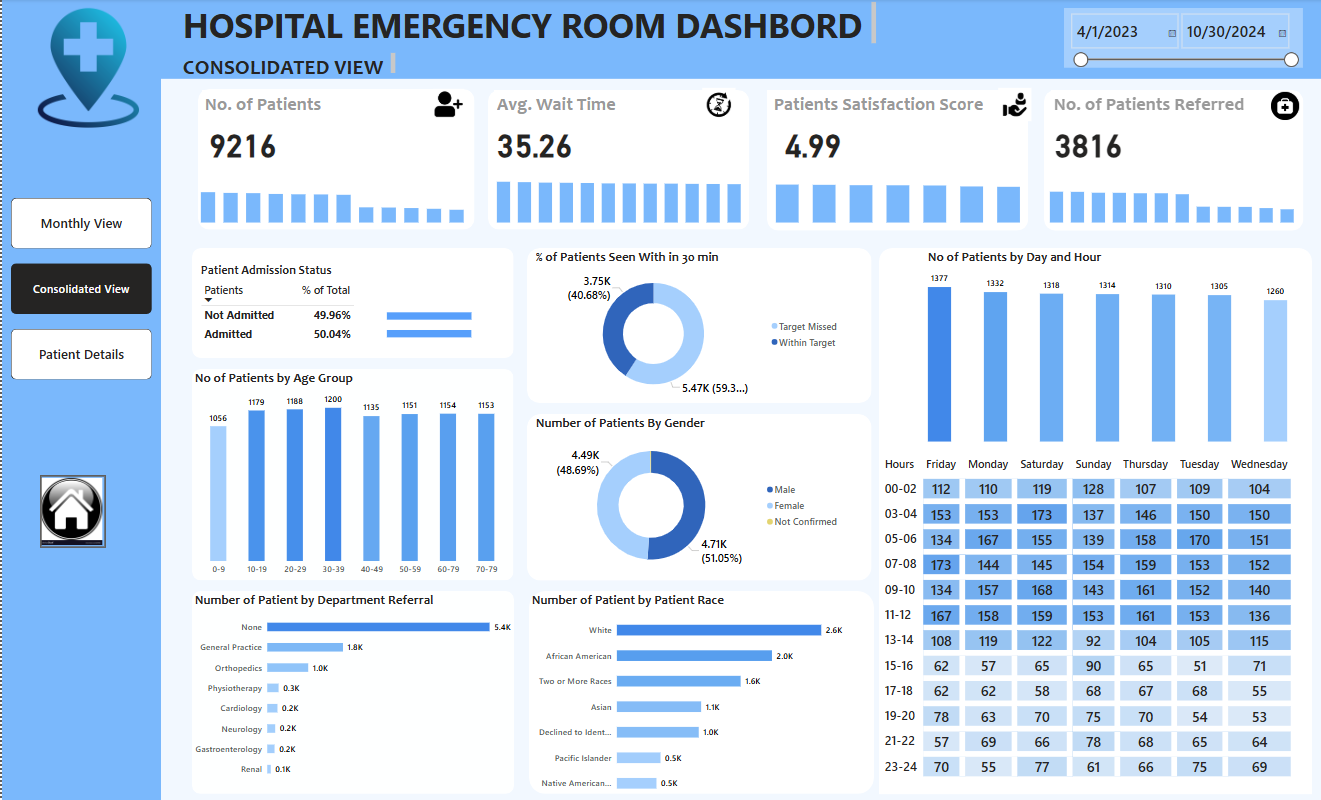

This screenshot's page, from the dashboard's own definition file:
{"tool":"powerbi","page":{"name":"Consolidated View","canvas":[2300,1400],"ordinal":1},"visuals":[{"type":"shape","box":[0,0,276.9,1400],"z":0},{"type":"shape","box":[276.9,0,2023.4,139.3],"z":1000},{"type":"textbox","box":[310,0,1217.2,85.3],"z":2000},{"type":"textbox","box":[310,88.8,379.6,50.5],"z":3000},{"type":"shape","box":[341.7,156.7,481.7,245],"z":4000},{"type":"card","fields":{"Values":["Count(Hospital.Patient Id)"]},"box":[348.3,207.9,141.7,83.3],"z":5000},{"type":"slicer","fields":{"Values":["Hospital.Patient Admission Date"]},"box":[1849.3,15.7,416.2,104.5],"z":6000},{"type":"textbox","box":[348.3,157.7,235,58.3],"z":7000},{"type":"columnChart","fields":{"Category":["Hospital.Month Name"],"Y":["CountNonNull(Hospital.Patient Id)"]},"box":[341.3,297.8,468.4,97.5],"z":8000},{"type":"shape","box":[1815,158.3,451.7,245],"z":9000},{"type":"card","fields":{"Values":["Hospital.Measure"]},"box":[1814.4,207.8,155,83.6],"z":10000},{"type":"textbox","box":[1826.6,158.1,419.7,57.5],"z":11000},{"type":"columnChart","fields":{"Category":["Hospital.Month Name"],"Y":["Hospital.no of patients referred"]},"box":[1819.7,297.8,435.3,97.5],"z":12000},{"type":"shape","box":[846.7,158.3,455,243.3],"z":13000},{"type":"card","fields":{"Values":["Avg(Hospital.Patient Waittime)"]},"box":[856.7,207.8,141,83.6],"z":14000},{"type":"textbox","box":[856.7,158.1,235.1,57.5],"z":15000},{"type":"columnChart","fields":{"Category":["Hospital.Month Name"],"Y":["Avg(Hospital.Patient Waittime)"]},"box":[856.7,297.8,435.3,97.5],"z":16000},{"type":"shape","box":[1331.7,158.3,455,245],"z":17000},{"type":"card","fields":{"Values":["Avg(Hospital.Patient Satisfaction Score)"]},"box":[1342.5,207.8,139.3,83.6],"z":18000},{"type":"textbox","box":[1332.1,158.1,435.3,57.5],"z":19000},{"type":"columnChart","fields":{"Category":["Hospital.Day Name"],"Y":["Avg(Hospital.Patient Satisfaction Score)"]},"box":[1342.5,297.8,437.1,97.5],"z":20000},{"type":"shape","box":[331.7,433.3,560,191.7],"z":21000},{"type":"tableEx","title":"Patient Admission Status","fields":{"Values":["Hospital.Admission Status flag","Hospital.Patient Id"]},"box":[341.7,460,425,151.7],"z":22000},{"type":"barChart","fields":{"Y":["CountNonNull(Hospital.Patient Id)"],"Category":["Hospital.Admission Status flag"]},"box":[665,516.7,201.7,95],"z":23000},{"type":"shape","box":[331.7,645,560,368.3],"z":24000},{"type":"clusteredColumnChart","title":" No of Patients by Age Group","fields":{"Category":["Hospital.AgeGroup"],"Y":["CountNonNull(Hospital.no of patients)"]},"box":[331.7,645,560,368.3],"z":25000},{"type":"shape","box":[330.8,1030.8,560.7,353.5],"z":26000},{"type":"clusteredBarChart","title":"Number of Patient by Department Referral","fields":{"Category":["Hospital.Department Referral"],"Y":["CountNonNull(Hospital.Patient Id)"]},"box":[330.8,1030.8,560.7,337.8],"z":27000},{"type":"shape","box":[915,433.3,600,270],"z":28000},{"type":"donutChart","title":"% of Patients Seen With in 30 min","fields":{"Category":["Hospital.waittime status"],"Y":["CountNonNull(Hospital.Patient Id)"]},"box":[925,433.3,543.3,270],"z":29000},{"type":"shape","box":[915,723.3,600,290],"z":30000},{"type":"donutChart","title":"Number of Patients By Gender","fields":{"Y":["CountNonNull(Hospital.Patient Id)"],"Category":["Hospital.Patient Gender"]},"box":[925,723.3,543.3,290],"z":31000},{"type":"shape","box":[917.7,1030.8,600.7,353.5],"z":32000},{"type":"clusteredBarChart","title":"Number of Patient by  Patient Race","fields":{"Y":["CountNonNull(Hospital.Patient Id)"],"Category":["Hospital.Patient Race"]},"box":[918.3,1031.7,560,368.3],"z":33000},{"type":"shape","box":[1527.1,433.6,754,950.7],"z":34000},{"type":"pivotTable","fields":{"Rows":["Hospital.Watting Interval"],"Columns":["Hospital.Day Name"],"Values":["CountNonNull(Hospital.no of patients)"]},"box":[1527.1,790.5,754,593.8],"z":35000},{"type":"columnChart","title":"No of Patients by Day and Hour","fields":{"Category":["Hospital.Day Name"],"Y":["CountNonNull(Hospital.Patient Id)"]},"box":[1607.2,433.6,639.1,343],"z":36000},{"type":"image","box":[745.3,151.5,64.4,62.7],"z":37000},{"type":"image","box":[1196.3,149.8,104.5,67.9],"z":38000},{"type":"image","box":[0,10.4,301.2,219.4],"z":39000},{"type":"image","box":[2202.7,156.7,62.7,59.2],"z":40000},{"type":"image","box":[1725.6,149.8,76.6,67.9],"z":41000},{"type":"pageNavigator","box":[15.7,346.5,245.5,318.7],"z":42000},{"type":"image","box":[15.7,828.9,210.7,127.1],"z":43000},{"type":"actionButton","box":[66.2,828.9,114.9,127.1],"z":44000}]}

Visuals, with their boxes in screenshot pixels (x1, y1, x2, y2), scaled from the page's 2300x1400 canvas onto the 1321x800 screenshot:
shape: 0, 0, 159, 799
shape: 159, 0, 1320, 80
textbox: 178, 0, 877, 49
textbox: 178, 51, 396, 80
shape: 196, 90, 473, 230
card - Count(Hospital.Patient Id): 200, 119, 281, 166
slicer - Hospital.Patient Admission Date: 1062, 9, 1301, 69
textbox: 200, 90, 335, 123
columnChart - Hospital.Month Name x CountNonNull(Hospital.Patient Id): 196, 170, 465, 226
shape: 1042, 90, 1302, 230
card - Hospital.Measure: 1042, 119, 1131, 167
textbox: 1049, 90, 1290, 123
columnChart - Hospital.Month Name x Hospital.no of patients referred: 1045, 170, 1295, 226
shape: 486, 90, 748, 229
card - Avg(Hospital.Patient Waittime): 492, 119, 573, 167
textbox: 492, 90, 627, 123
columnChart - Hospital.Month Name x Avg(Hospital.Patient Waittime): 492, 170, 742, 226
shape: 765, 90, 1026, 230
card - Avg(Hospital.Patient Satisfaction Score): 771, 119, 851, 167
textbox: 765, 90, 1015, 123
columnChart - Hospital.Day Name x Avg(Hospital.Patient Satisfaction Score): 771, 170, 1022, 226
shape: 191, 248, 512, 357
"Patient Admission Status" tableEx: 196, 263, 440, 350
barChart - CountNonNull(Hospital.Patient Id) x Hospital.Admission Status flag: 382, 295, 498, 350
shape: 191, 369, 512, 579
" No of Patients by Age Group" clusteredColumnChart: 191, 369, 512, 579
shape: 190, 589, 512, 791
"Number of Patient by Department Referral" clusteredBarChart: 190, 589, 512, 782
shape: 526, 248, 870, 402
"% of Patients Seen With in 30 min" donutChart: 531, 248, 843, 402
shape: 526, 413, 870, 579
"Number of Patients By Gender" donutChart: 531, 413, 843, 579
shape: 527, 589, 872, 791
"Number of Patient by  Patient Race" clusteredBarChart: 527, 590, 849, 799
shape: 877, 248, 1310, 791
pivotTable - Hospital.Watting Interval x Hospital.Day Name: 877, 452, 1310, 791
"No of Patients by Day and Hour" columnChart: 923, 248, 1290, 444
image: 428, 87, 465, 122
image: 687, 86, 747, 124
image: 0, 6, 173, 131
image: 1265, 90, 1301, 123
image: 991, 86, 1035, 124
pageNavigator: 9, 198, 150, 380
image: 9, 474, 130, 546
actionButton: 38, 474, 104, 546
